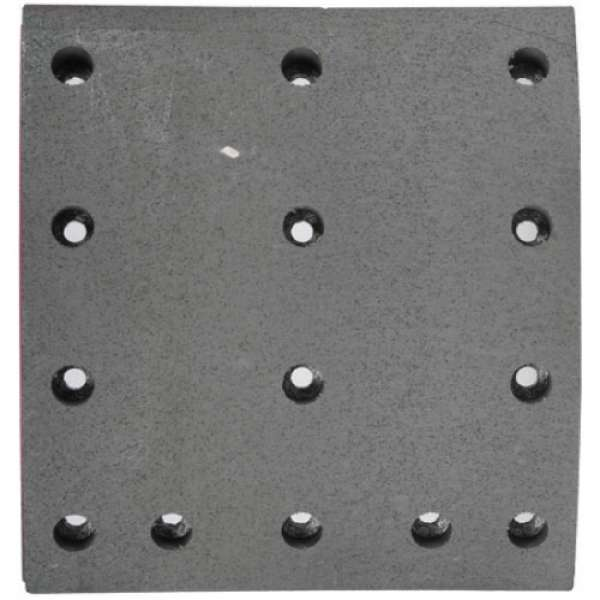hole: (505, 41, 554, 89), (50, 41, 97, 88), (279, 43, 325, 91), (50, 361, 99, 406), (280, 362, 328, 407), (48, 203, 97, 247), (281, 202, 327, 248), (506, 360, 555, 403), (51, 511, 98, 555), (507, 205, 555, 248), (408, 506, 454, 550), (278, 511, 327, 552), (148, 508, 195, 550), (505, 509, 551, 551)
